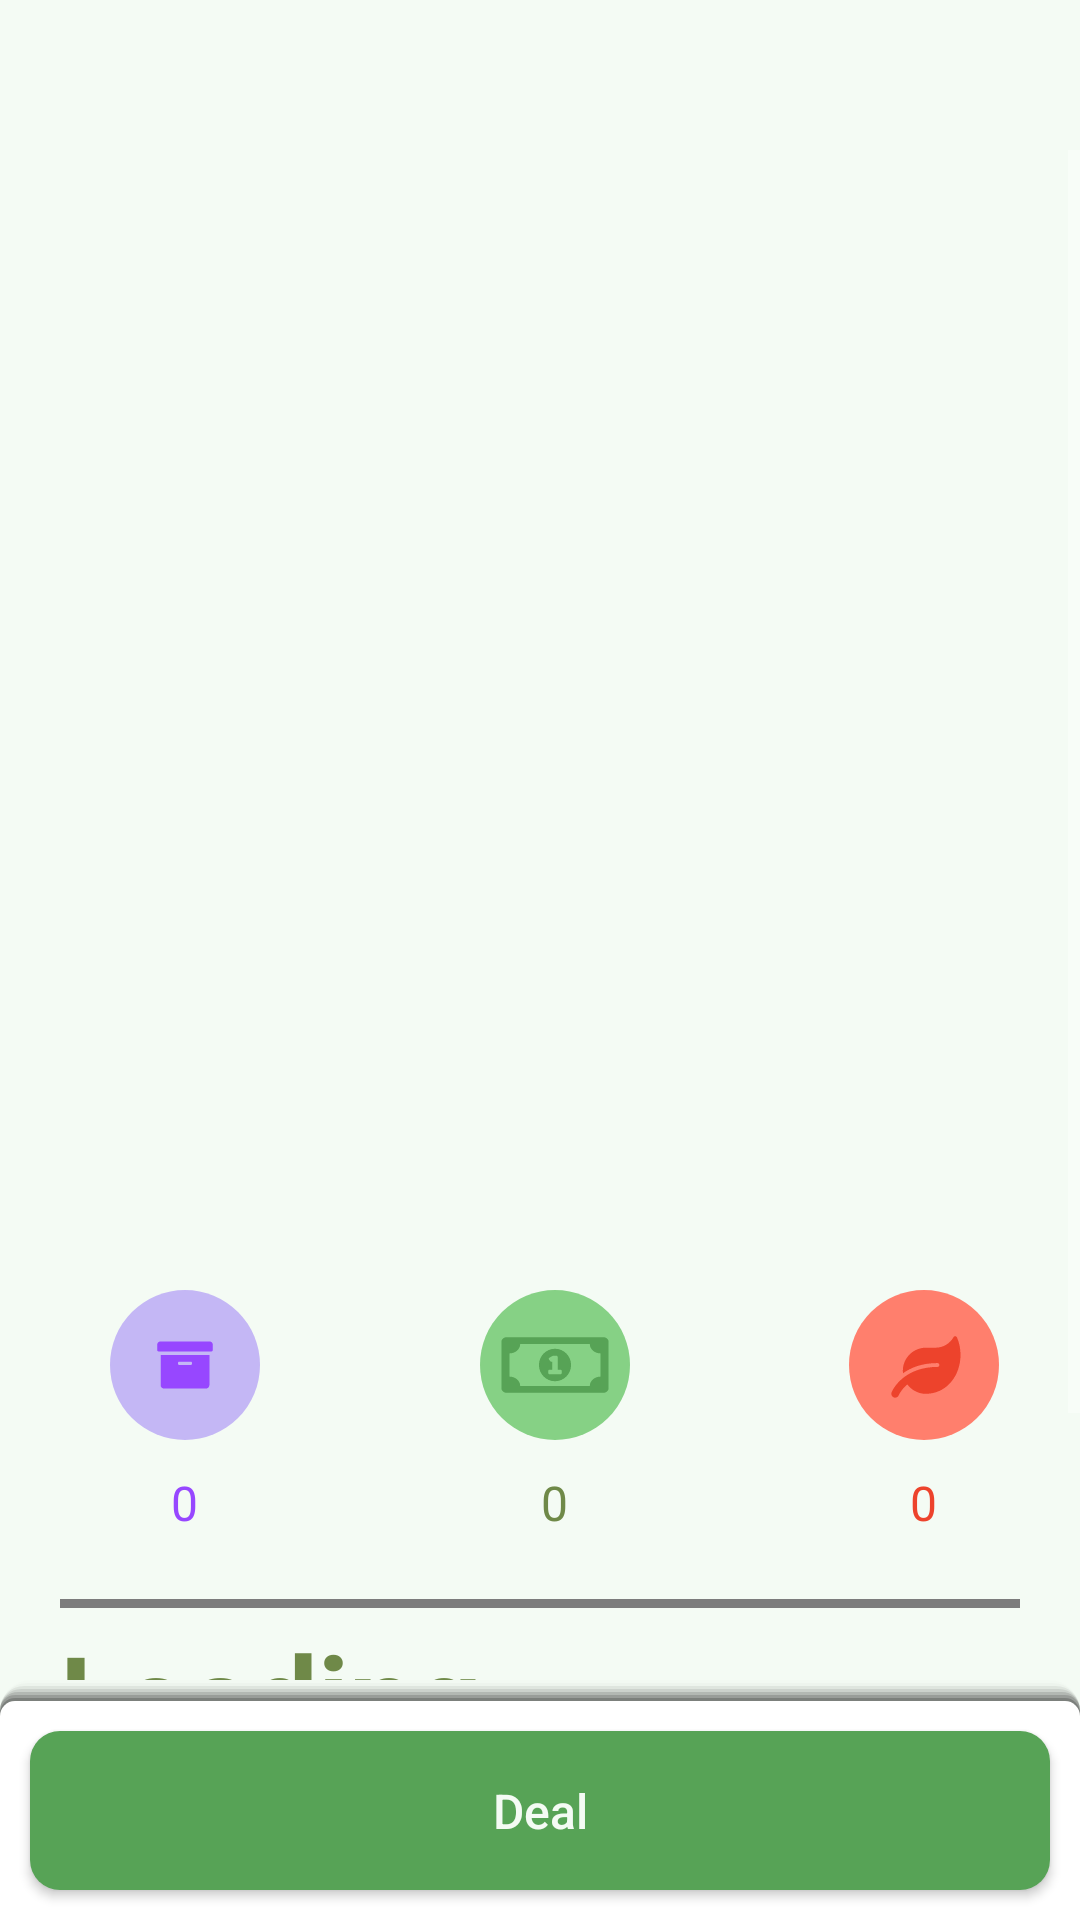

Where icons sit on this 1080×1920 app screen, as (x1,y1,x2,y2):
sell: (480,1290,630,1440)
stock: (110,1290,260,1440)
withered: (849,1290,999,1440)
